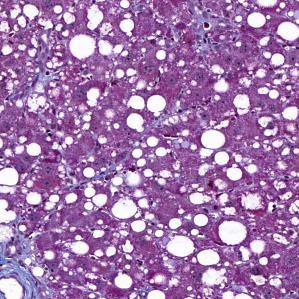fibrosis: (0, 234, 54, 297)
